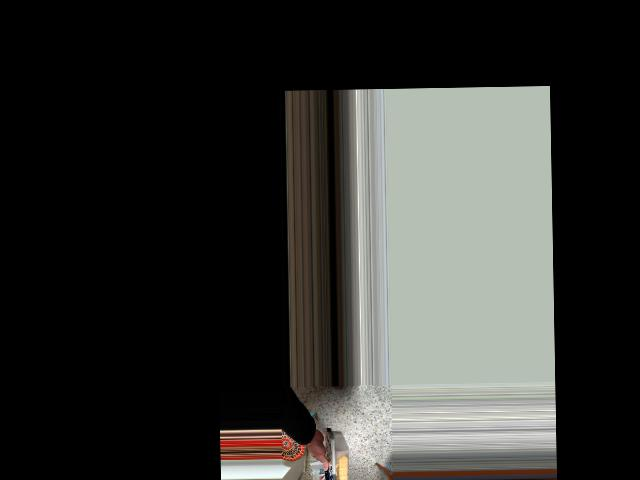cheese: (287, 424, 354, 480)
